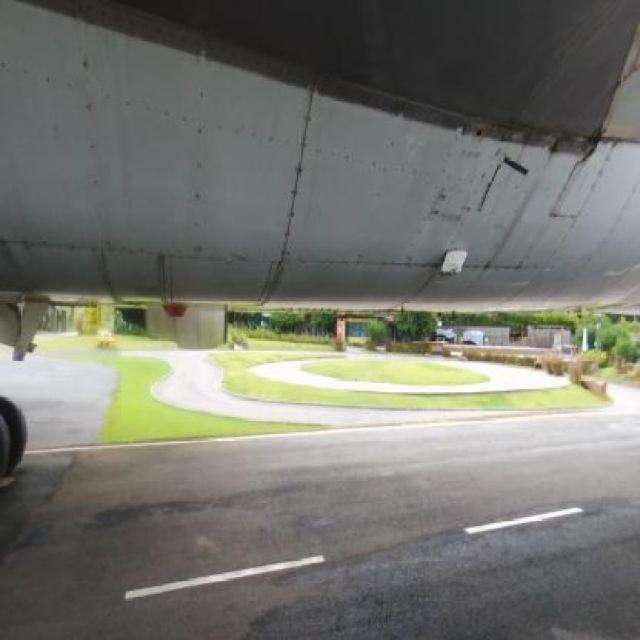Missing-Rivet: (79, 53, 112, 250), (6, 238, 191, 272), (205, 42, 303, 90), (110, 8, 198, 61), (283, 95, 312, 254), (118, 84, 190, 138), (3, 56, 75, 107), (317, 250, 429, 282), (442, 132, 489, 202), (380, 135, 438, 188), (211, 247, 312, 276), (216, 119, 278, 161), (317, 138, 380, 178), (398, 187, 436, 250), (192, 88, 206, 257), (456, 259, 542, 284), (355, 188, 388, 252)
